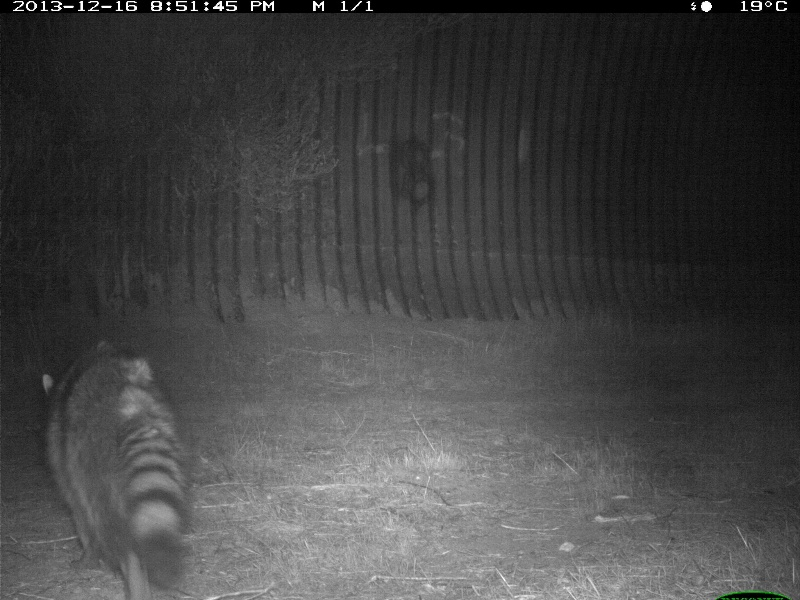raccoon: (37, 336, 191, 597)
